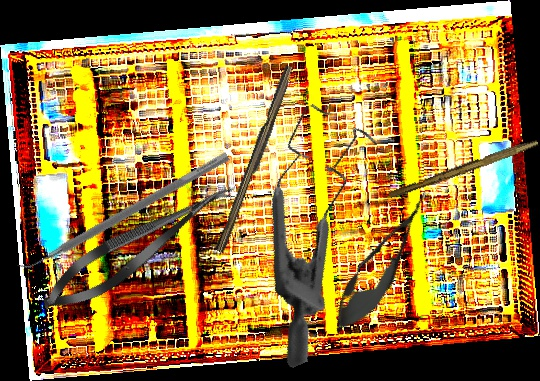Micro Scissor: (32, 169, 244, 324), (320, 178, 446, 345)
Scalpel Handle: (215, 63, 297, 256), (388, 135, 539, 202)
Spatula Surgical: (14, 143, 231, 279)
Speculum: (198, 87, 445, 369)
